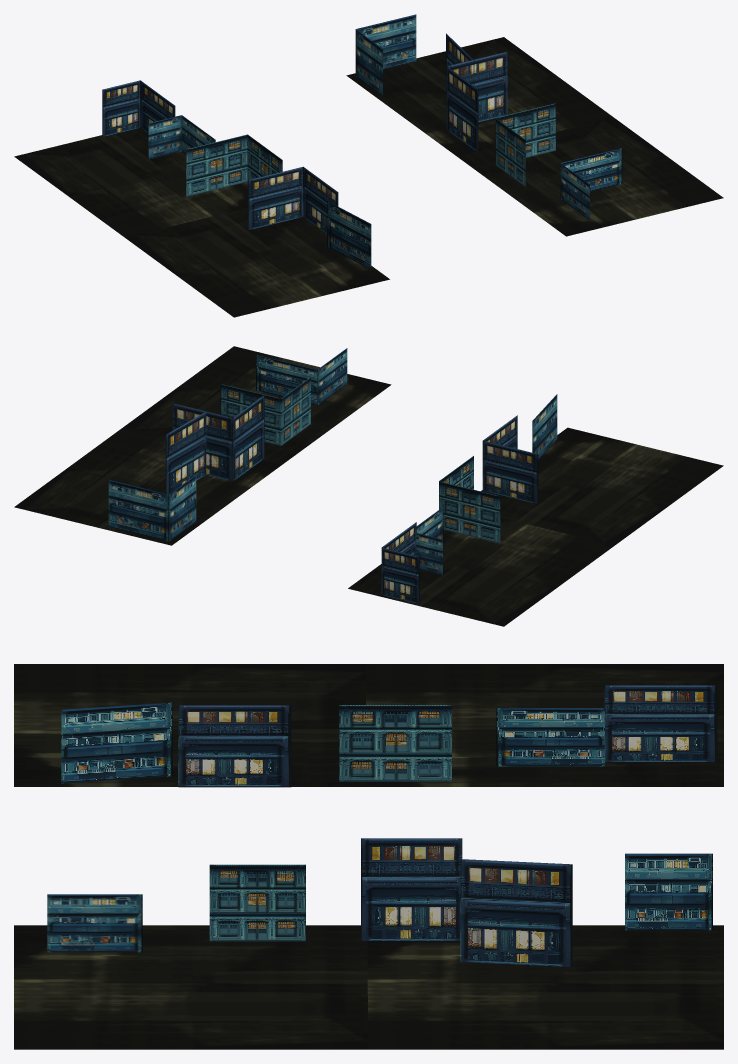
File: as_downtown_far.fbx
3 renders of one model, top to bottom at view 1: azimuth 30°, elevation 25°; view 2: azimuth 150°, elevation 25°; view 3: azimuth 270°, elevation 25°, orthographic. The views are drawn at different scales.
Parts seen in each view (by area): view 1: as_downtown_far; view 2: as_downtown_far; view 3: as_downtown_far.
Boxes of the visible parts, x1,y1,x2,y2 form: as_downtown_far: (14, 14, 723, 317); as_downtown_far: (14, 346, 723, 626); as_downtown_far: (14, 664, 723, 1049).
Size of the model in its own units: 12856 by 1616 by 10000.
